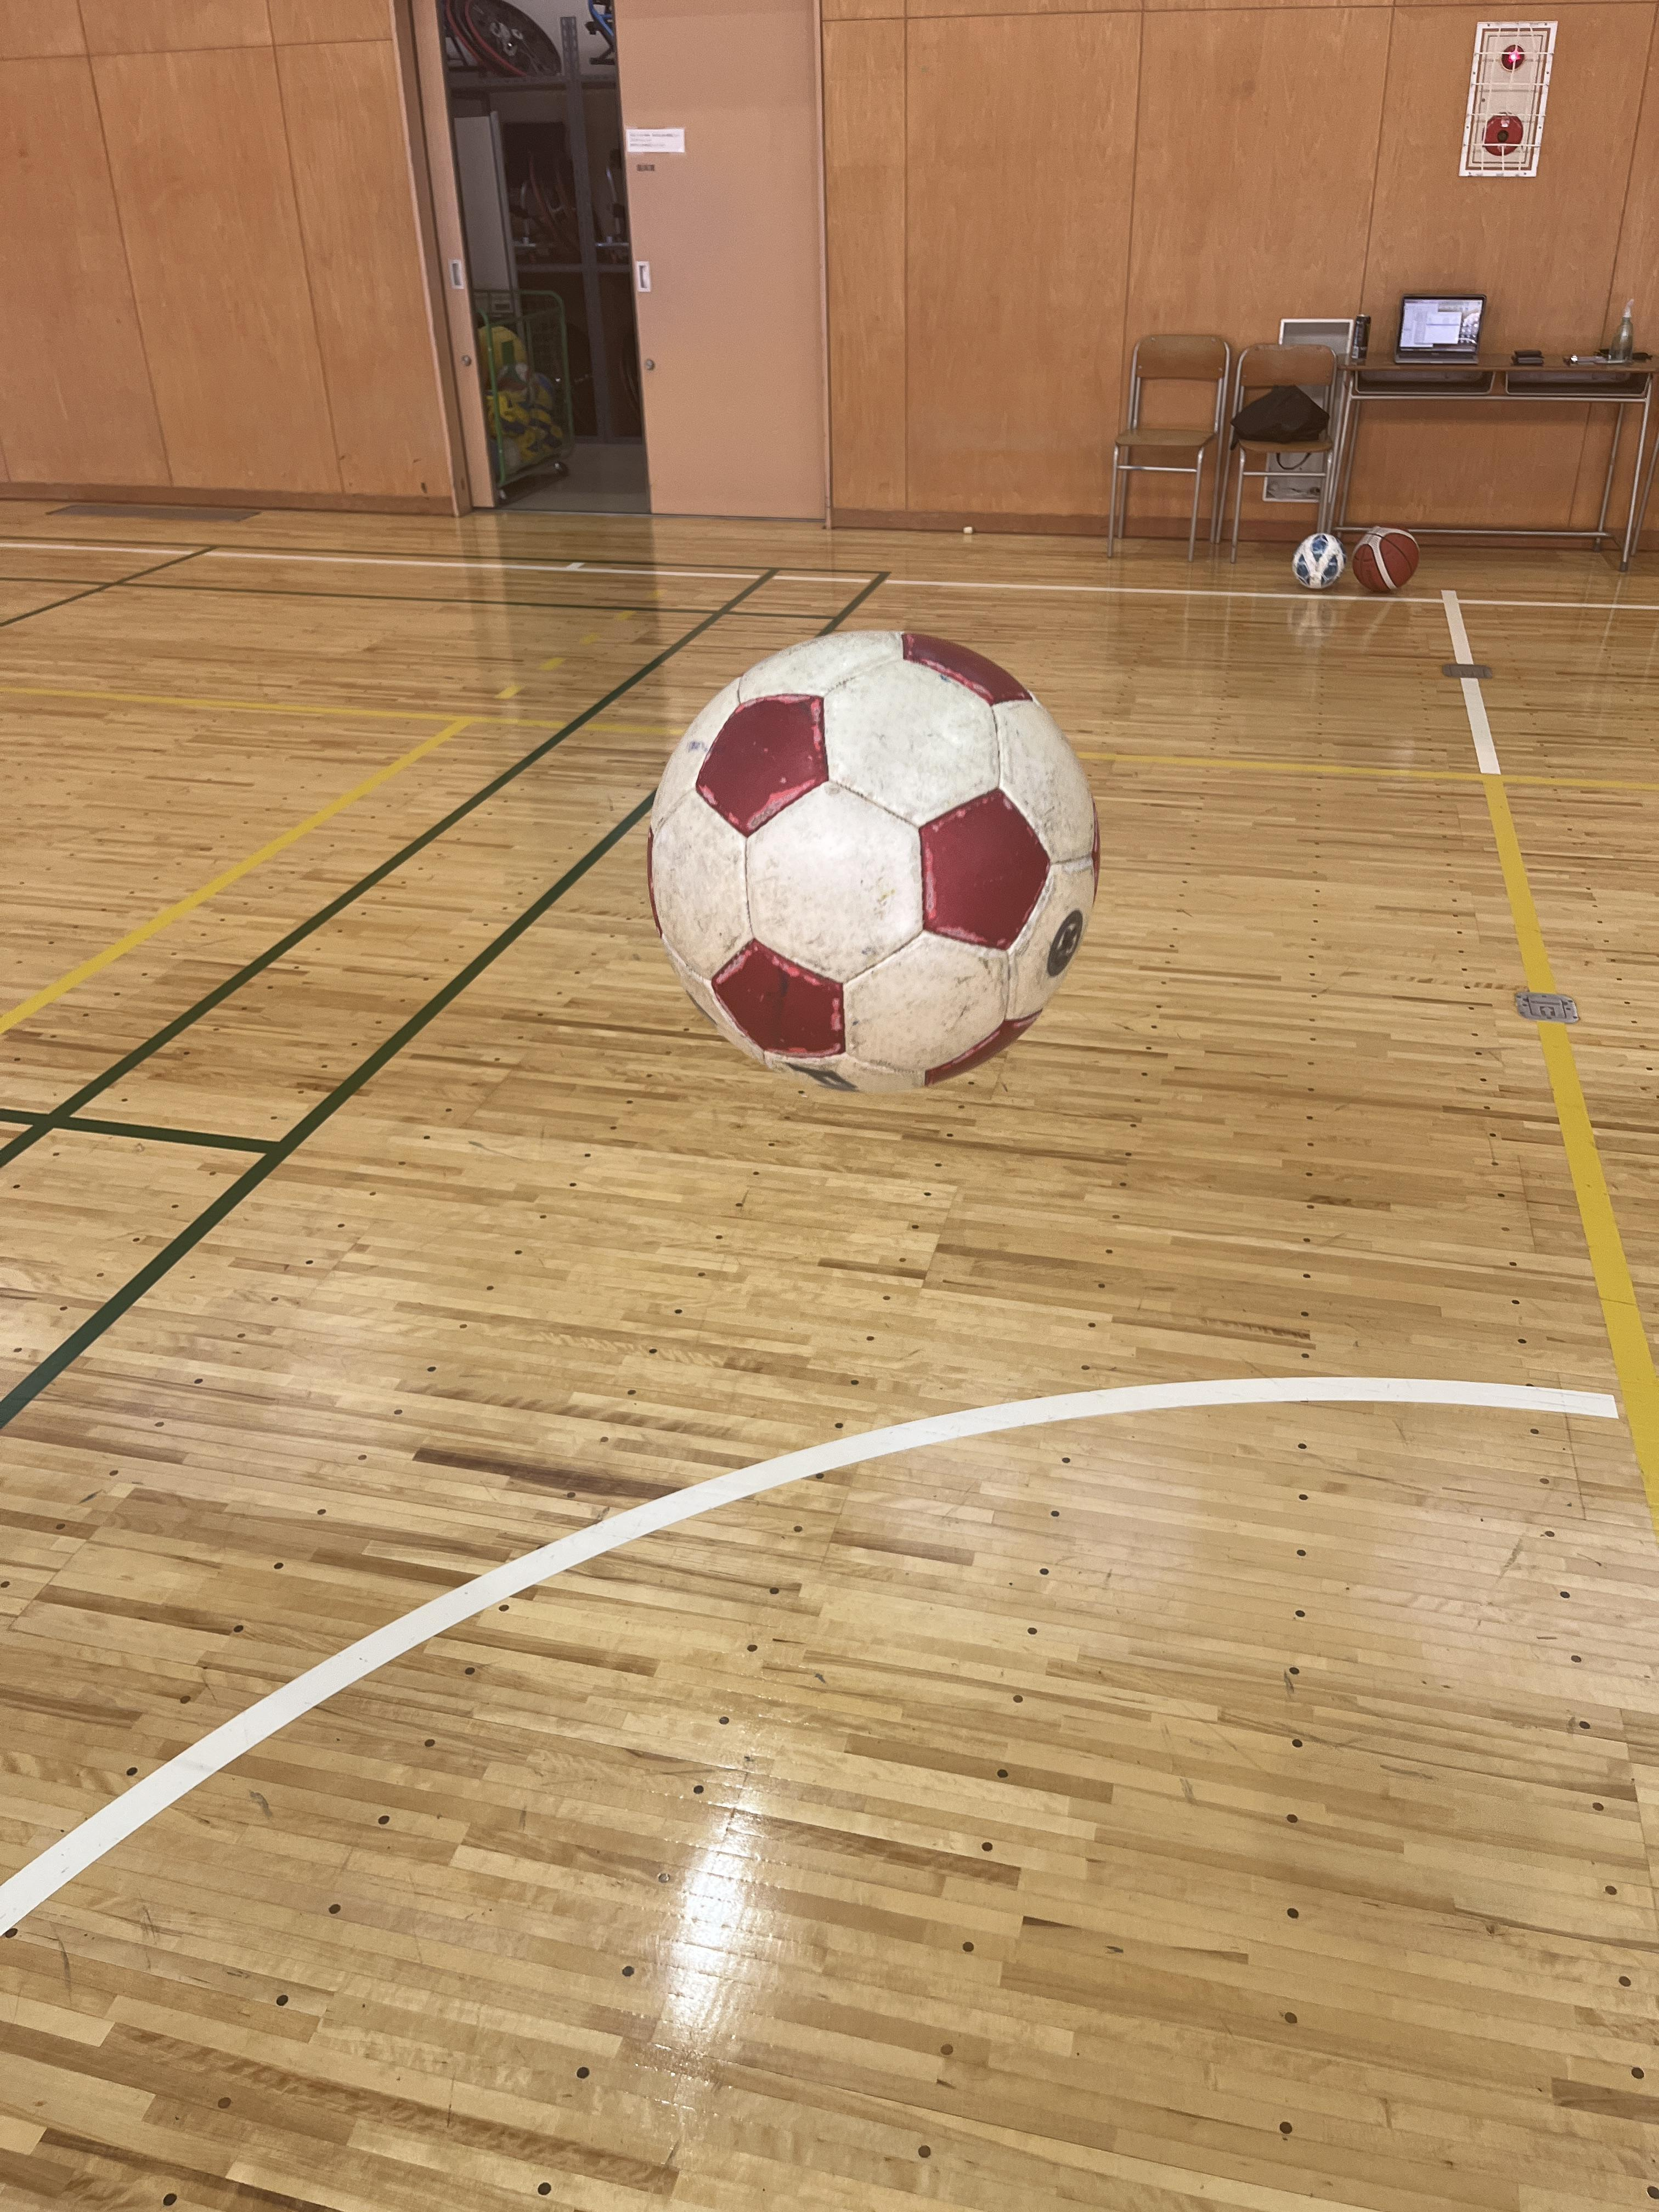Sports-Ball: (641, 631, 1115, 1073)
